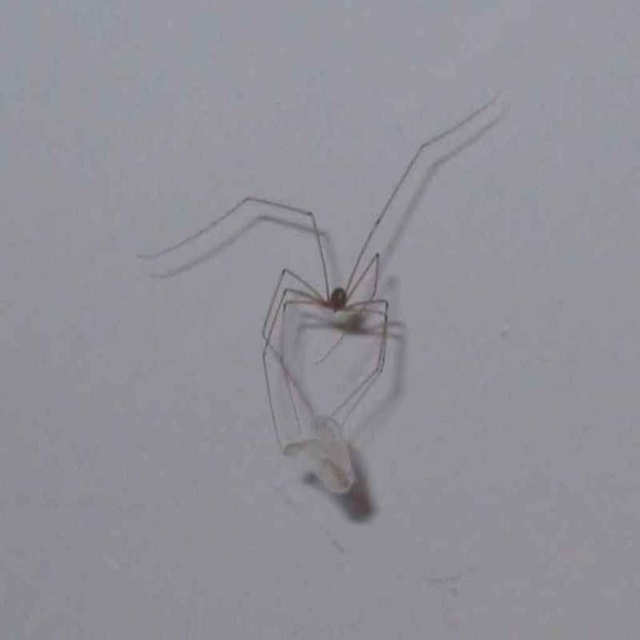Spider: (133, 87, 498, 490)
